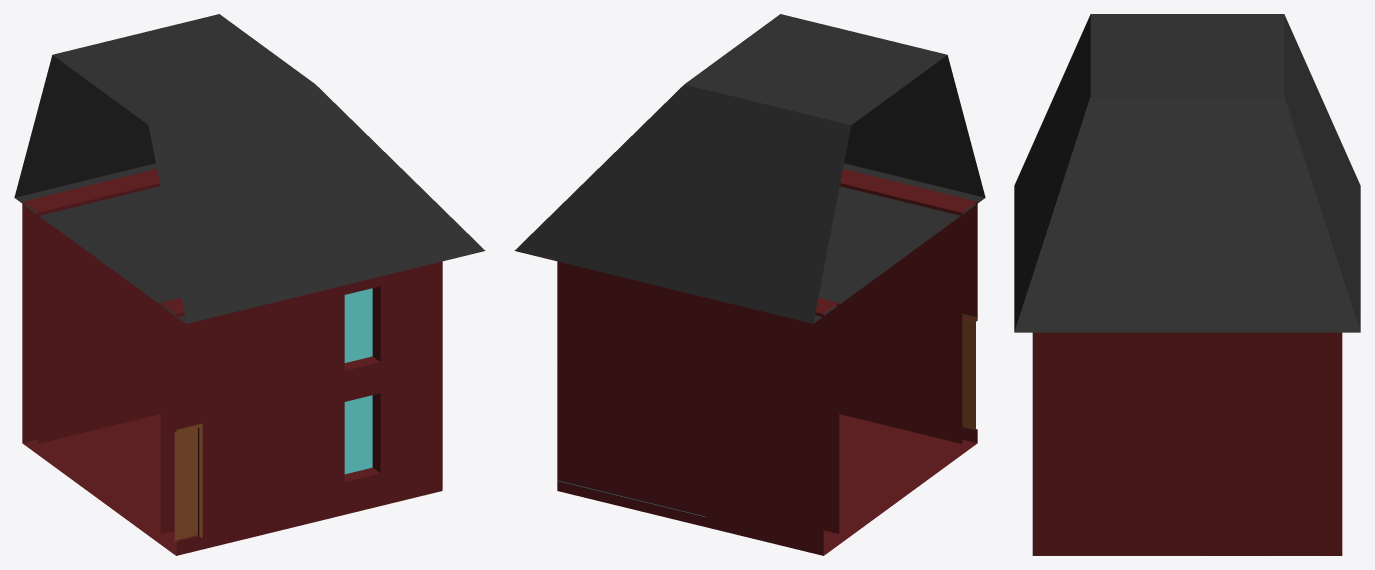
The model's file is house._right.glb.
3 renders of one model, left to right at view 1: azimuth 30°, elevation 25°; view 2: azimuth 150°, elevation 25°; view 3: azimuth 270°, elevation 25°, orthographic.
Visible parts, largest first — view 1: House; view 2: House; view 3: House.
Part boxes in pixels (<box>): House: <box>14,14,485,555</box>; House: <box>514,14,985,555</box>; House: <box>1014,14,1360,555</box>.
Bounding box in the file's own units: 9.02 × 11.75 × 8.96.
Materials: 1 (1 with a texture image).
